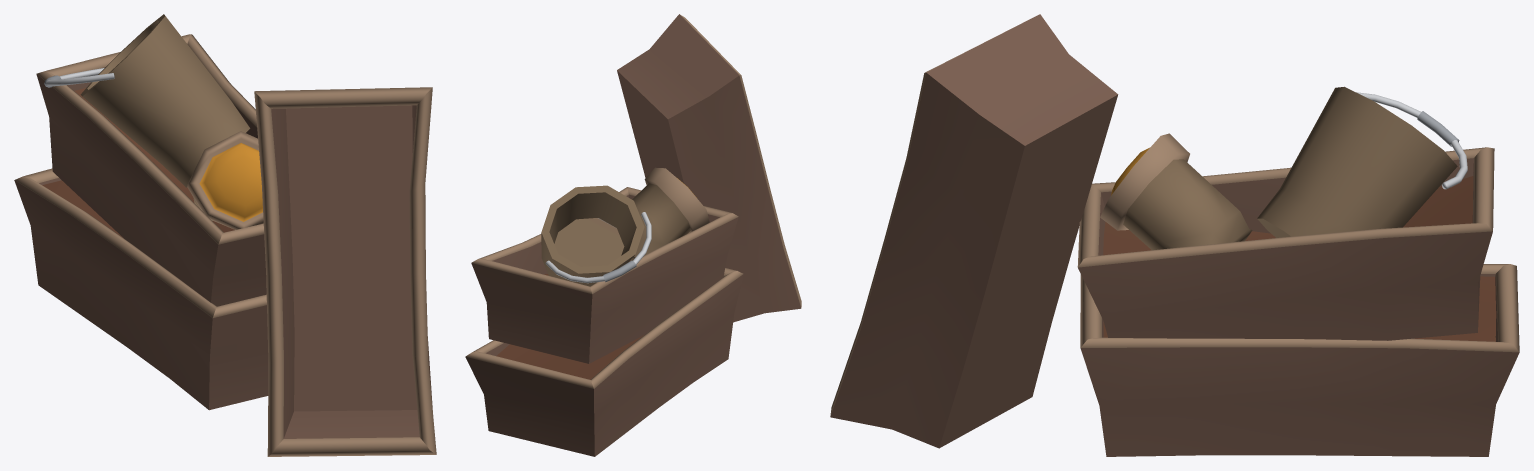
Rendered from P_boxes_01.fbx.
3 renders of one model, left to right at view 1: azimuth 30°, elevation 25°; view 2: azimuth 150°, elevation 25°; view 3: azimuth 270°, elevation 25°, orthographic. The views are drawn at different scales.
Parts seen in each view (by area): view 1: lod1; view 2: lod1; view 3: lod1.
Part boxes in pixels (bbox=[...]): lod1: bbox=[14, 14, 436, 456]; lod1: bbox=[465, 14, 801, 456]; lod1: bbox=[830, 14, 1519, 456].
Size of the model in its own units: 55.68 by 90.47 by 145.
Materials: 1 (1 with a texture image).
